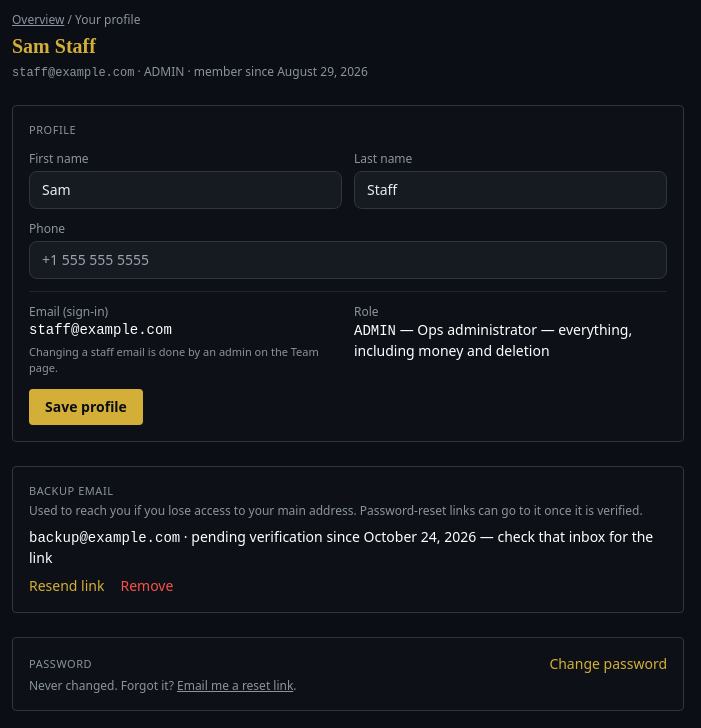
Test case: ops profile — backup email card › pending: shows the address, since when, "Resend link" and "Remove" — each calling its action
Expected: the element with test id "backup-email-state" shows "backup@example.com", [29,530,180,546]
Expected: the element with test id "backup-email-state" shows "pending verification since October 24, 2026", [29,527,667,568]
What coordinates should you click on to do the following:
click the button with test id "backup-email-resend"
I would click on:
 (67, 586)
Its box is [29,576,104,596].
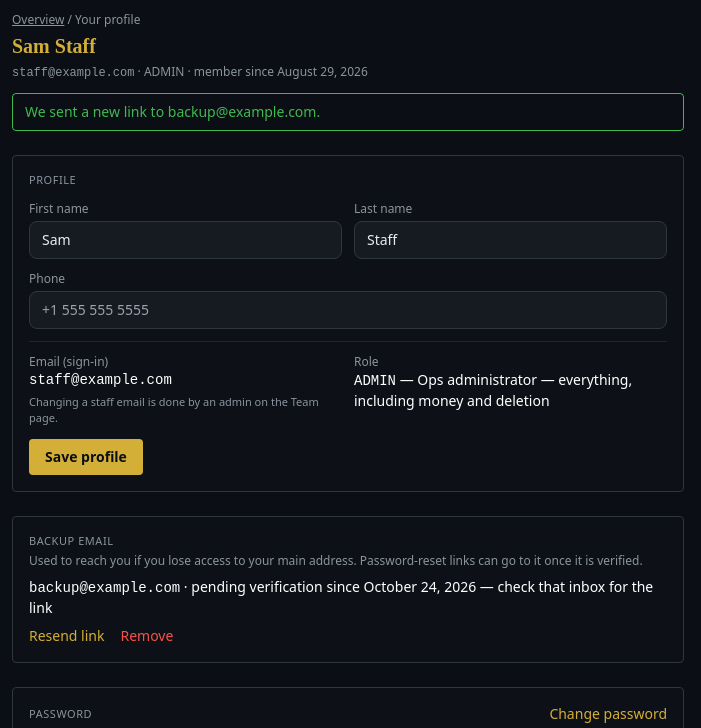
Now the message with test id "profile-notice" reads "We sent a new link to backup@example.com.", box [25,102,320,121]
What coordinates should you click on to do the following:
click the button with test id "backup-email-remove"
I would click on:
 (147, 636)
Its box is [120,626,173,646].
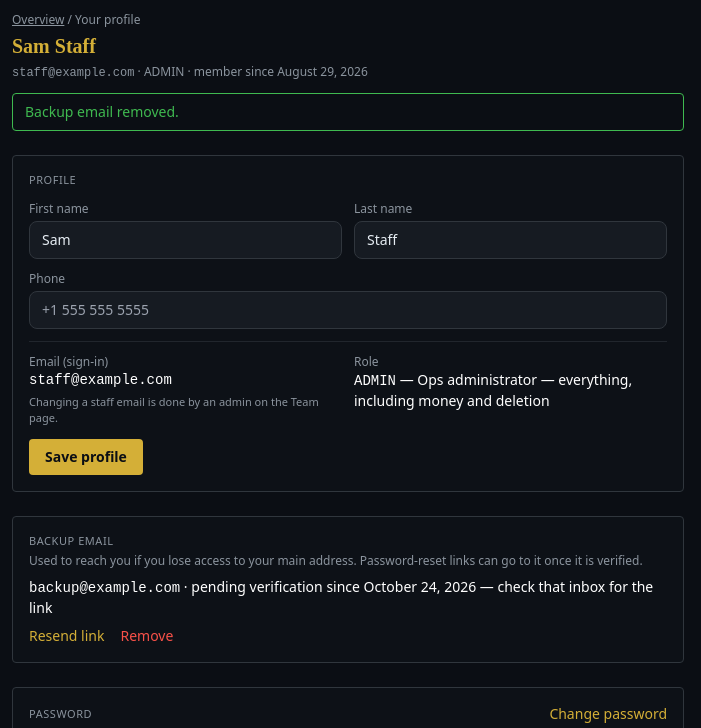
Now the message with test id "profile-notice" reads "Backup email removed.", box [25,102,179,121]
